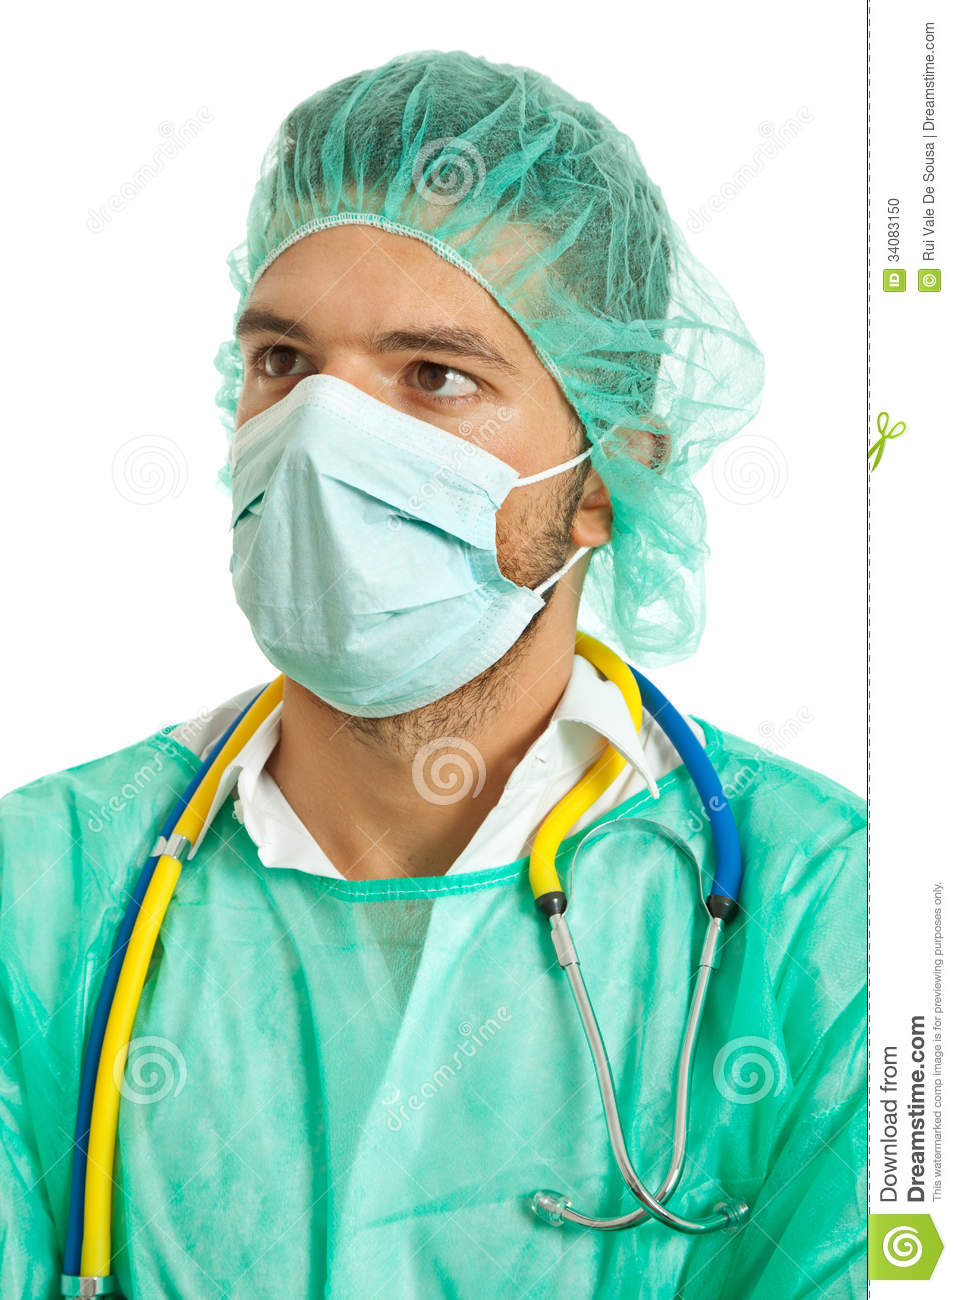mask: (172, 397, 558, 733)
